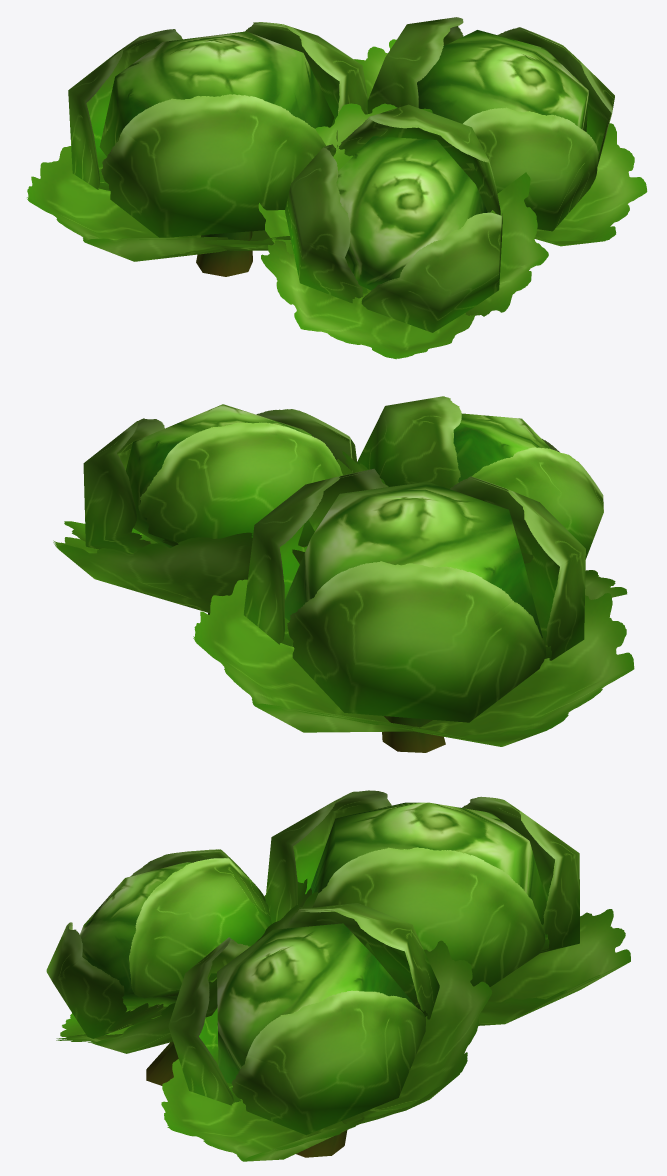
File: cabbage_stage3.FBX
3 views of the same model, one above another, from view 1: azimuth 30°, elevation 25°; view 2: azimuth 150°, elevation 25°; view 3: azimuth 270°, elevation 25° (orthographic). The views are drawn at different scales.
Parts seen in each view (by area): view 1: cabbage_stage3; view 2: cabbage_stage3; view 3: cabbage_stage3.
Boxes of the visible parts, bbox=[...] form: cabbage_stage3: bbox=[27, 17, 647, 359]; cabbage_stage3: bbox=[53, 396, 634, 752]; cabbage_stage3: bbox=[46, 790, 630, 1161].
Bounding box in the file's own units: 6.11 × 2.43 × 5.76.
Materials: 1 (1 with a texture image).
